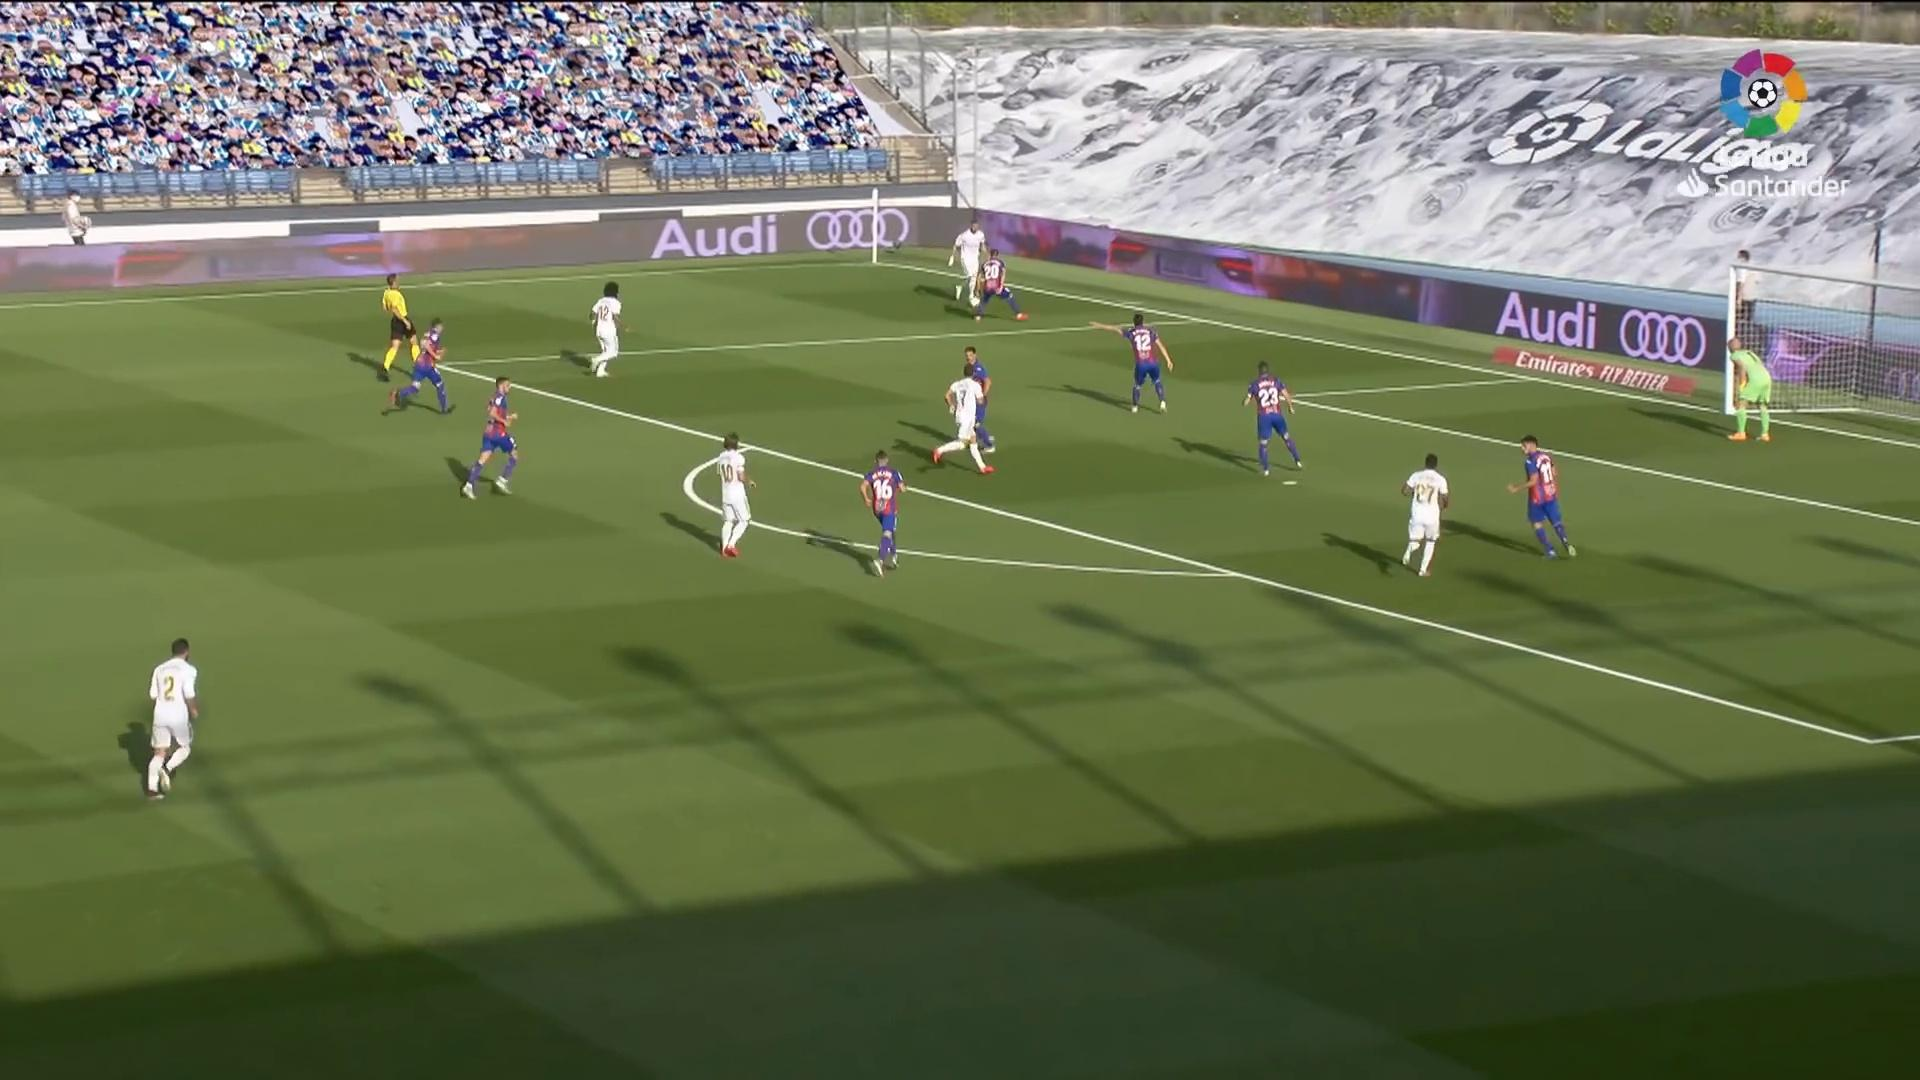ball: (969, 294, 982, 308)
goalkeeper: (1720, 333, 1780, 451)
player: (132, 633, 210, 805), (1501, 428, 1589, 565), (1085, 308, 1181, 418), (457, 373, 527, 504), (1240, 357, 1311, 482), (1395, 446, 1456, 580), (387, 313, 460, 421), (853, 448, 912, 580), (930, 361, 996, 478), (708, 425, 762, 564), (582, 275, 633, 381), (967, 245, 1033, 324), (957, 343, 998, 459), (942, 218, 996, 306)
referee: (373, 265, 430, 383)
